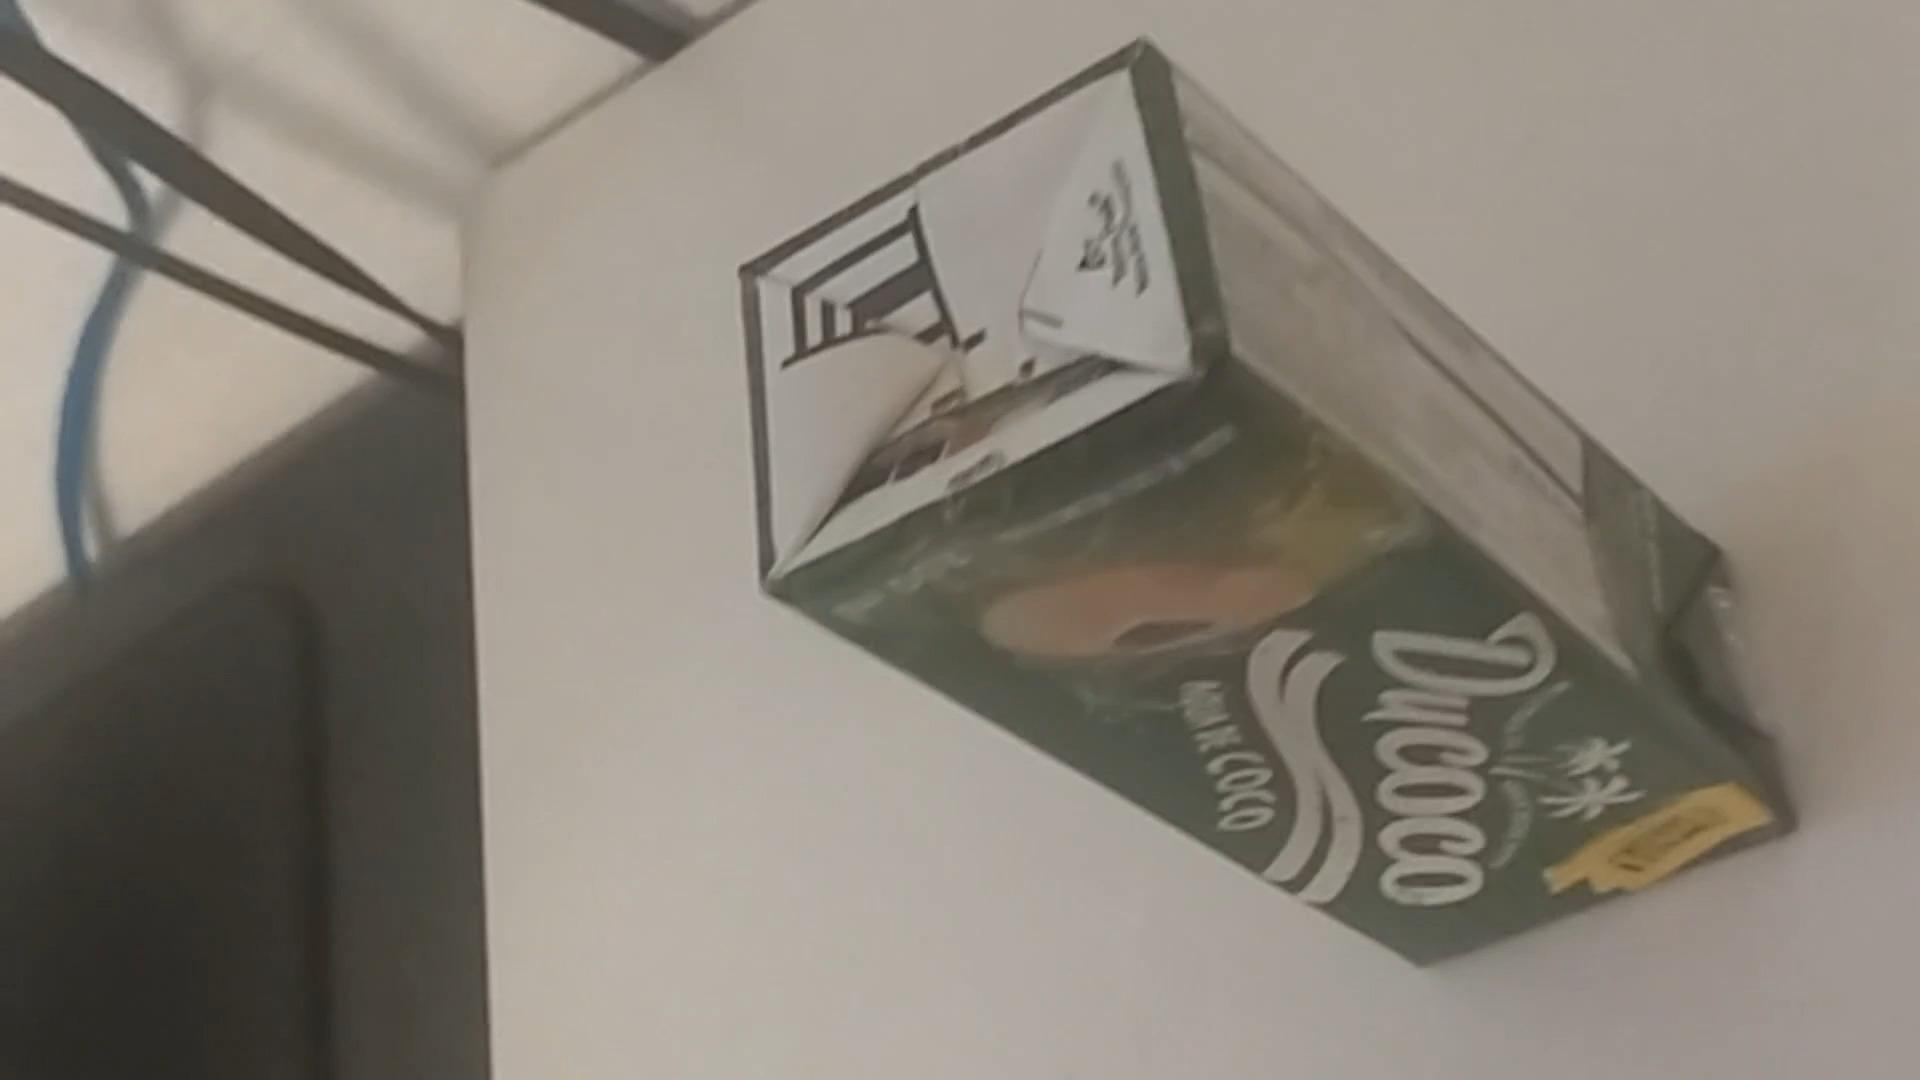coco: (743, 40, 1788, 976)
